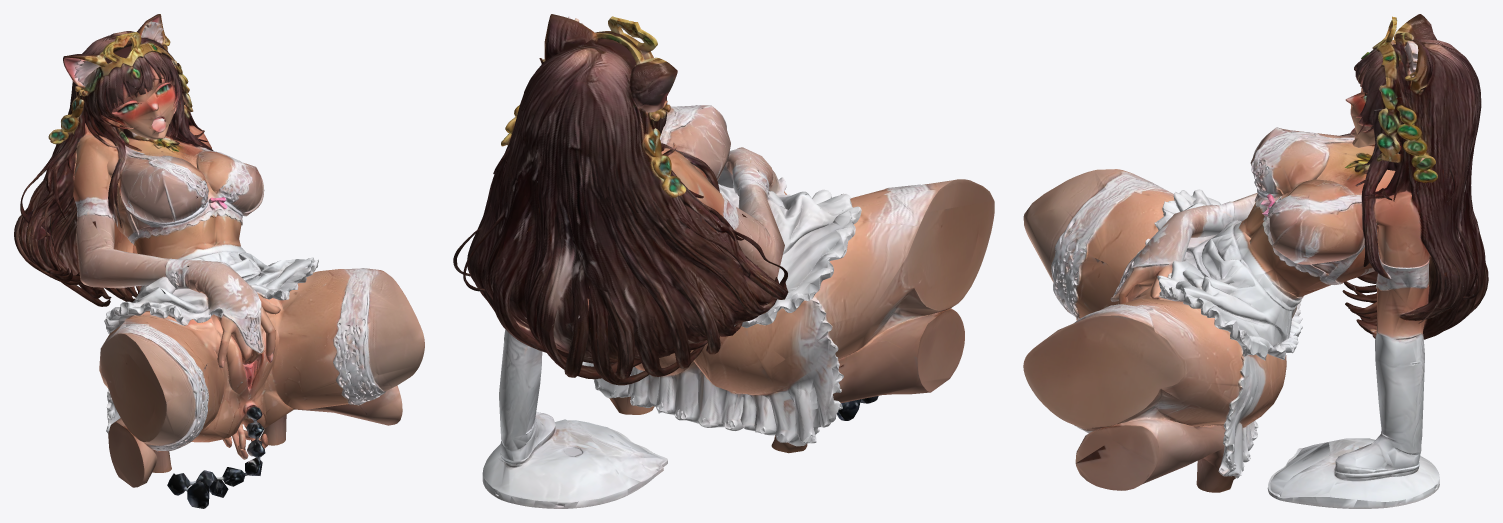
3 renders of one model, left to right at view 1: azimuth 30°, elevation 25°; view 2: azimuth 150°, elevation 25°; view 3: azimuth 270°, elevation 25°, orthographic. The views are drawn at different scales.
Parts seen in each view (by area): view 1: model; view 2: model; view 3: model.
Part boxes in pixels (x1=…): model: x1=14, y1=14, x2=424, y2=508; model: x1=453, y1=14, x2=994, y2=508; model: x1=1023, y1=14, x2=1488, y2=508.
Bounding box in the file's own units: 1.25 × 1.7 × 1.68.
Materials: 1 (1 with a texture image).
